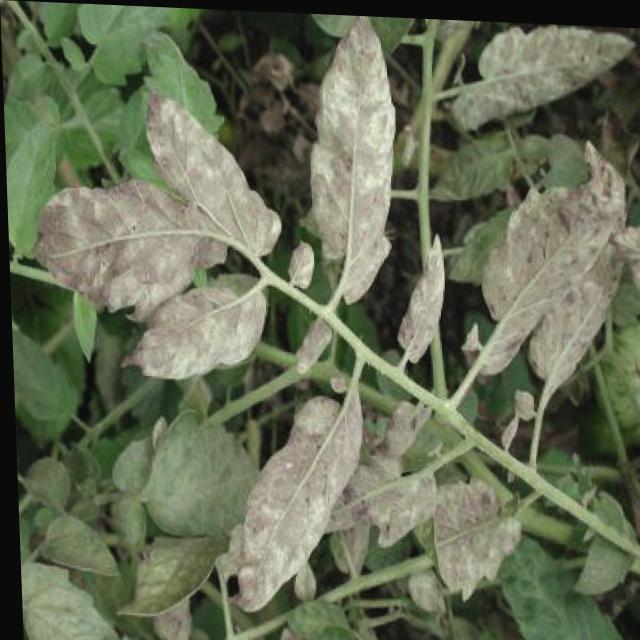Tomato mold leaf: (118, 404, 255, 530), (495, 537, 627, 639), (16, 487, 117, 580), (17, 560, 123, 639)
